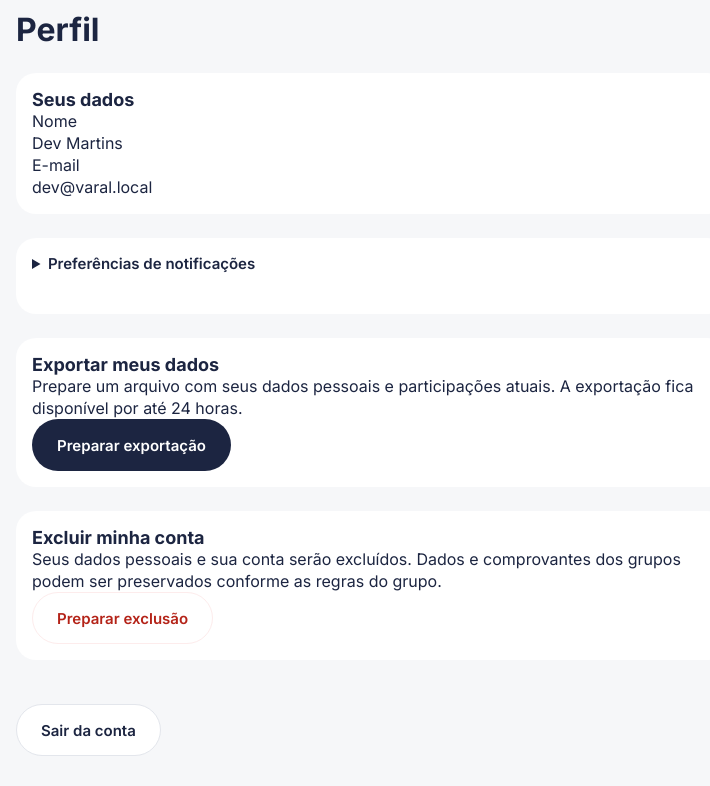
Test: exportação pendente consulta estado e só oferece download quando pronta
This screenshot has width=710, height=786.
Click the button "Preparar exportação". click: (131, 445)
box: [32, 419, 231, 471]
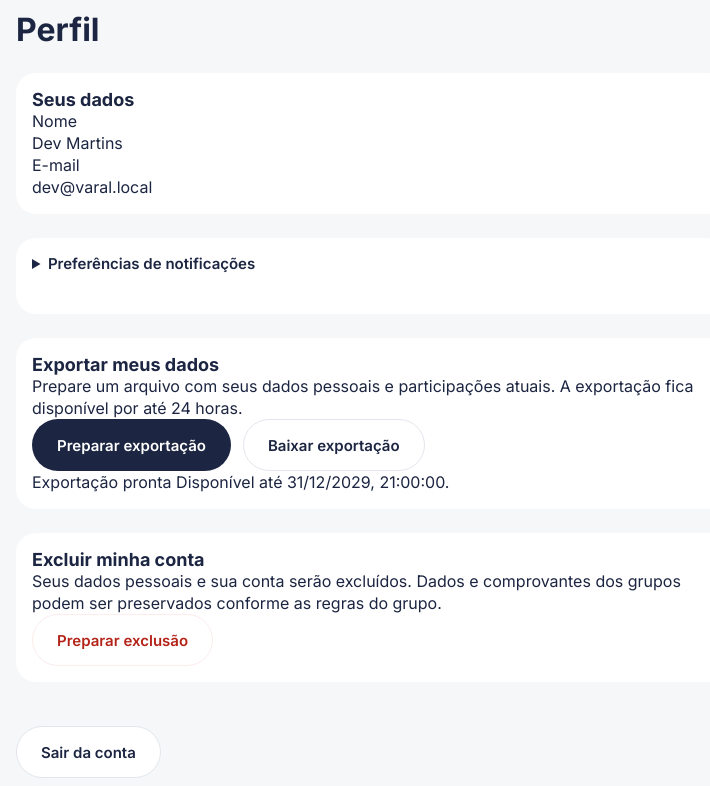
Expected: the button "Baixar exportação" is shown, [243, 419, 425, 471]
